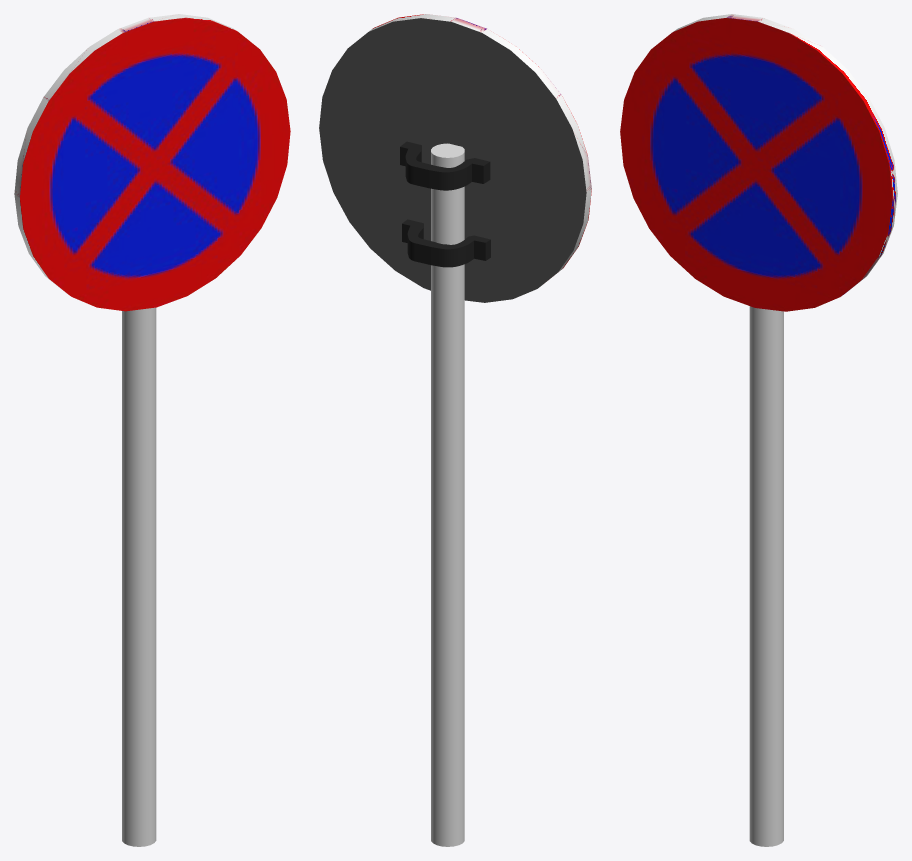
Rendered from Traffic_fbx.fbx.
The picture shows the model from 3 angles, left to right: view 1: azimuth 30°, elevation 25°; view 2: azimuth 150°, elevation 25°; view 3: azimuth 330°, elevation 25°; orthographic projection.
Parts seen in each view (by area): view 1: Circle002, sipka; view 2: Circle002, sipka, s, Line006; view 3: Circle002, sipka.
Boxes of the visible parts, <box> form: Circle002: <box>14,14,290,311</box>; sipka: <box>122,307,156,846</box>; Circle002: <box>319,14,591,302</box>; sipka: <box>431,143,464,846</box>; s: <box>400,141,490,190</box>; Line006: <box>402,219,490,267</box>; Circle002: <box>620,14,897,311</box>; sipka: <box>749,306,783,846</box>.
Size of the model in its own units: 23.77 by 69.16 by 4.75.
Materials: 4 (1 with a texture image).
